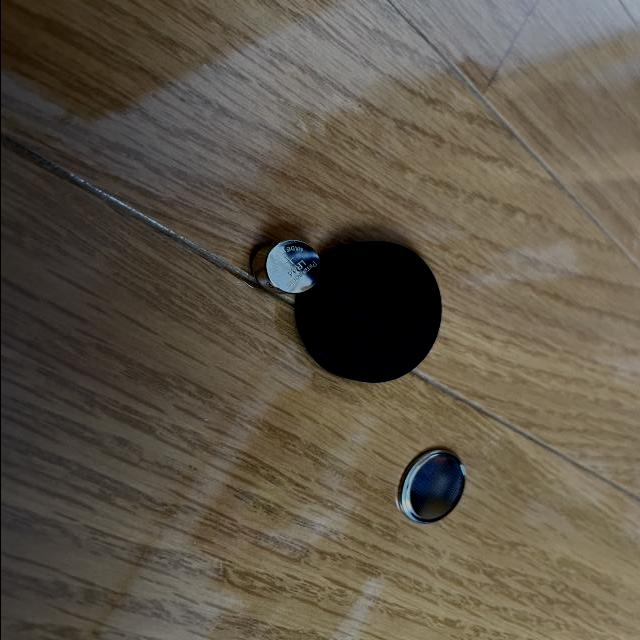COIN: (395, 448, 465, 524), (251, 238, 323, 295)
